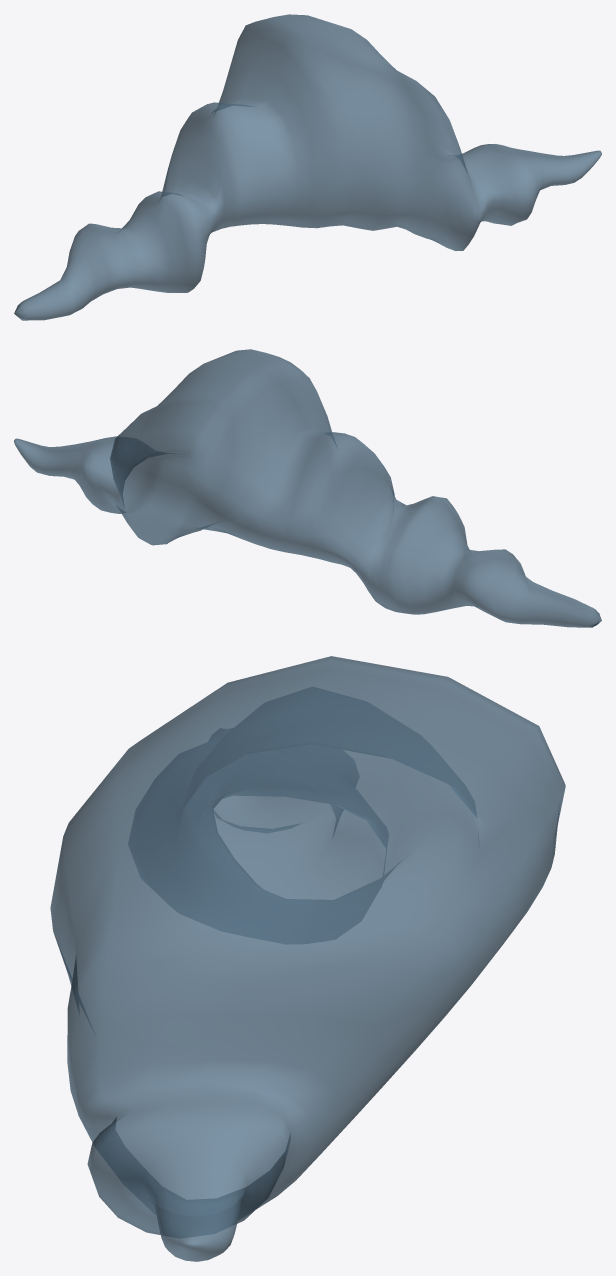
File: cloud1.fbx
3 views of the same model, one above another, from view 1: azimuth 30°, elevation 25°; view 2: azimuth 150°, elevation 25°; view 3: azimuth 270°, elevation 25° (orthographic). The views are drawn at different scales.
Visible parts, largest first — view 1: Cloud_BBG1; view 2: Cloud_BBG1; view 3: Cloud_BBG1.
Boxes of the visible parts, bbox=[...] form: Cloud_BBG1: bbox=[14, 14, 601, 320]; Cloud_BBG1: bbox=[14, 349, 601, 627]; Cloud_BBG1: bbox=[50, 656, 565, 1261].
Size of the model in its own units: 192 by 71.64 by 74.
